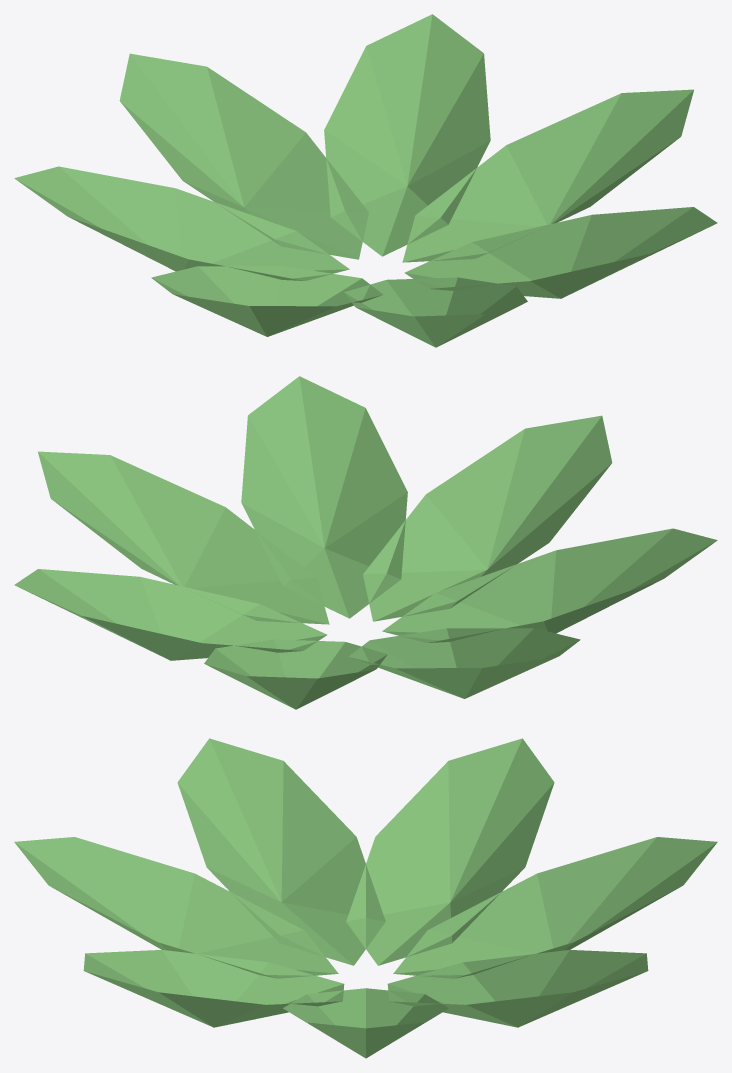
The model's file is weed_broadleaf.glb.
3 views of the same model, one above another, from view 1: azimuth 30°, elevation 25°; view 2: azimuth 150°, elevation 25°; view 3: azimuth 270°, elevation 25° (orthographic).
Visible parts, largest first — view 1: weed_broadleaf; view 2: weed_broadleaf; view 3: weed_broadleaf.
Part boxes in pixels (x1,y1,x2,y2): weed_broadleaf: (14, 14, 717, 347); weed_broadleaf: (14, 376, 717, 709); weed_broadleaf: (14, 738, 717, 1058).
Bounding box in the file's own units: 0.2471 × 0.04 × 0.2535.
